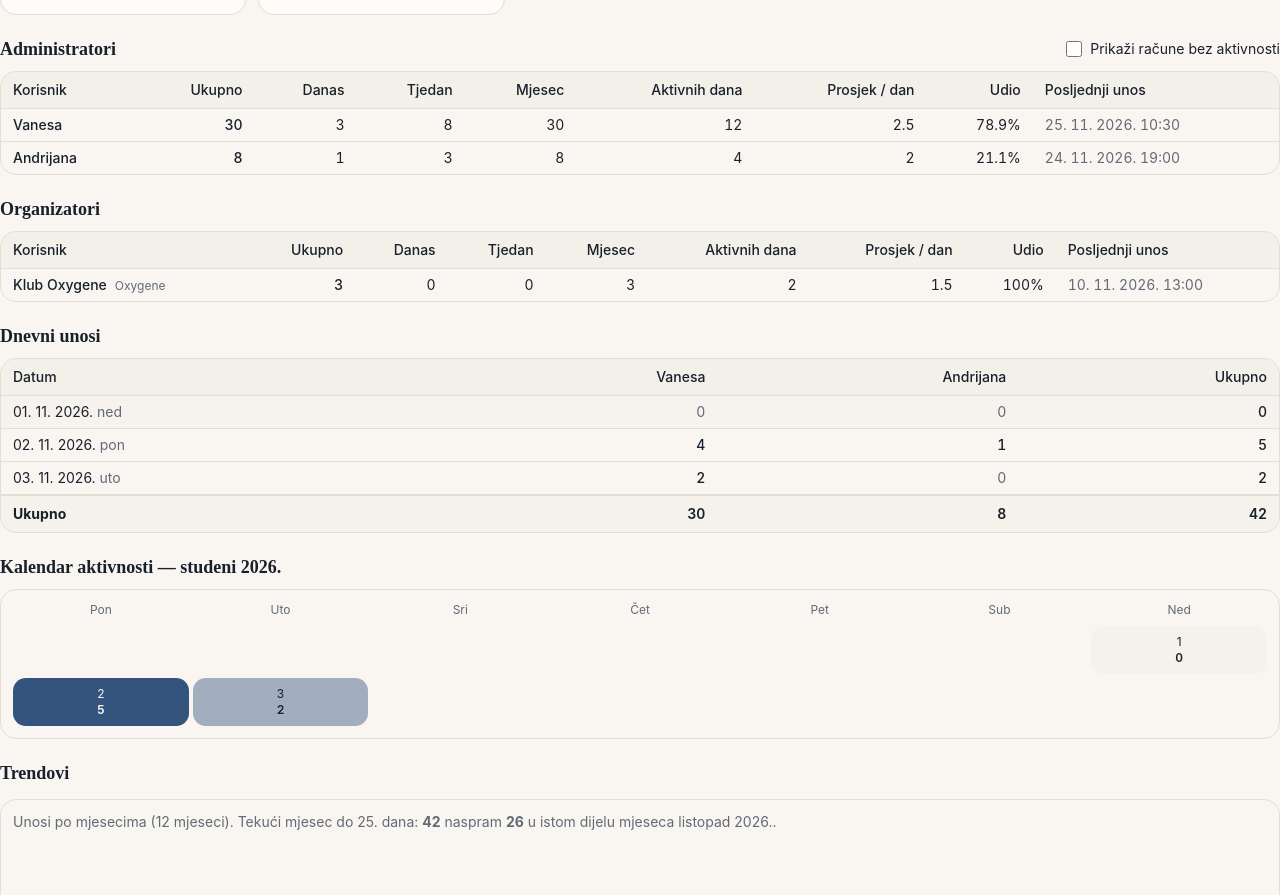
Test case: entry statistics page › opens one editor's chronology when a number in the daily table is clicked
(page scrolled)
Click the button "4".
click(701, 445)  # box [696, 435, 705, 455]
(page scrolled)
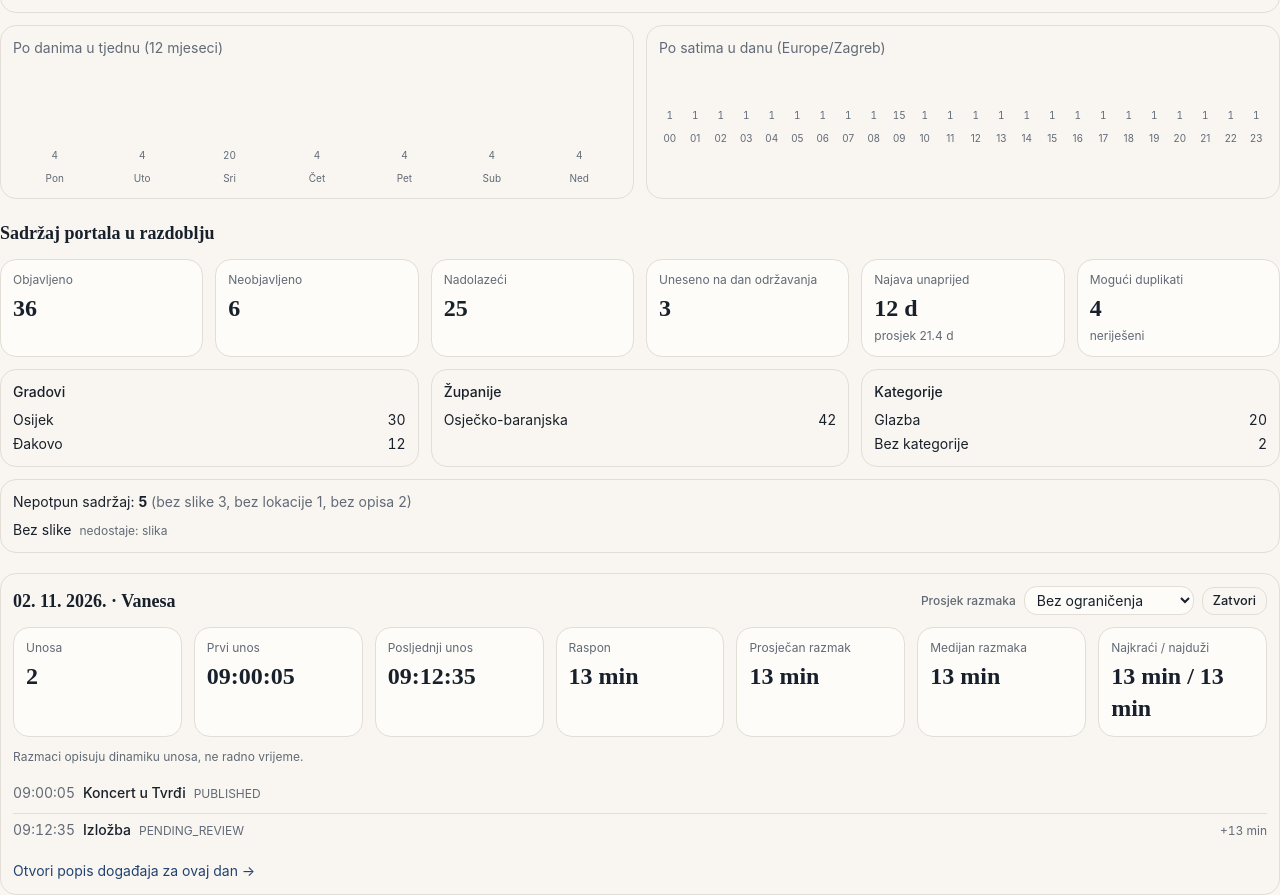
Result: the element named "Detalji dana" shows "Koncert u Tvrđi" at [83, 783, 186, 803]
Result: the element named "Detalji dana" shows "09:00:05" at [207, 663, 295, 689]
Result: the element named "Detalji dana" shows "Prosječan razmak" at [749, 640, 851, 655]
